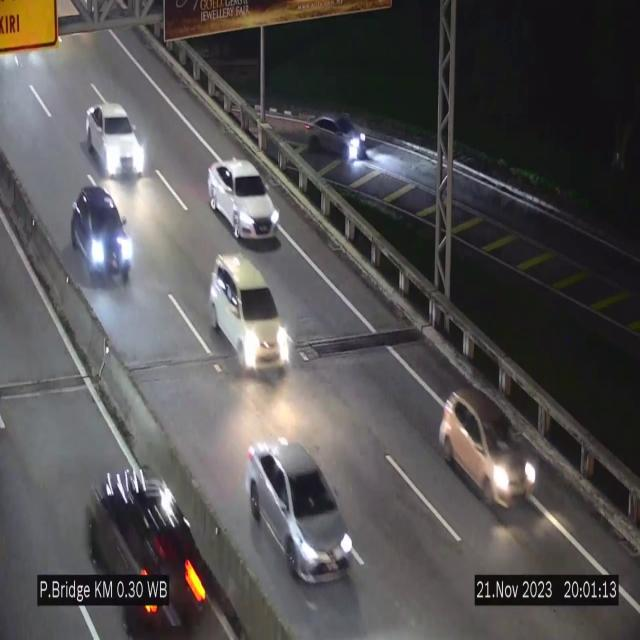Car: (81, 460, 217, 640), (246, 441, 354, 580), (440, 383, 538, 515), (209, 254, 289, 372), (207, 160, 281, 242), (71, 187, 133, 282), (298, 101, 372, 169), (86, 103, 145, 177)
